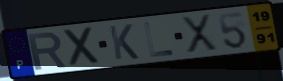5: (216, 10, 249, 50)
K: (107, 23, 141, 61)
L: (142, 21, 176, 59)
R: (26, 31, 69, 72)
X: (61, 25, 103, 69), (180, 12, 220, 54)
